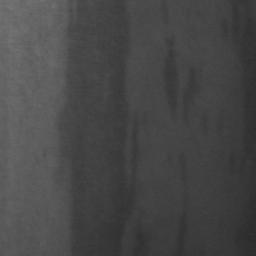Inclusion: (55, 0, 138, 256), (163, 50, 180, 122)
